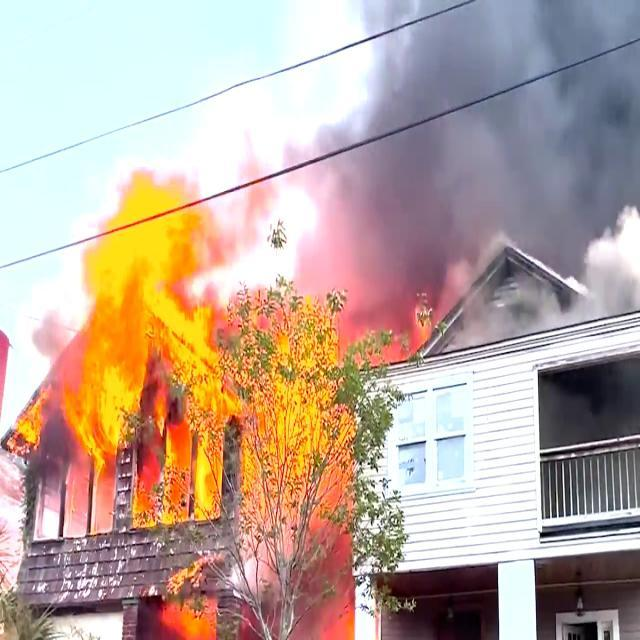Fire: (76, 187, 240, 506), (252, 312, 344, 640)
Smoke: (295, 0, 640, 251)
